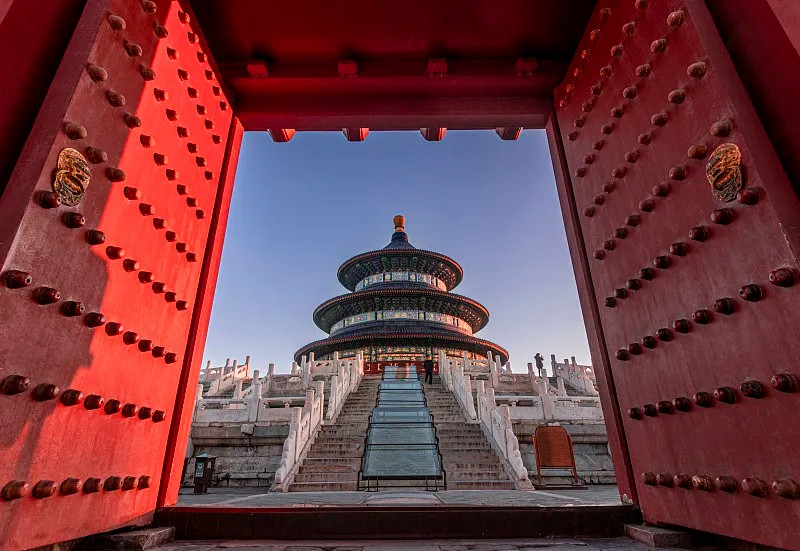Heaven: (293, 213, 510, 377)
